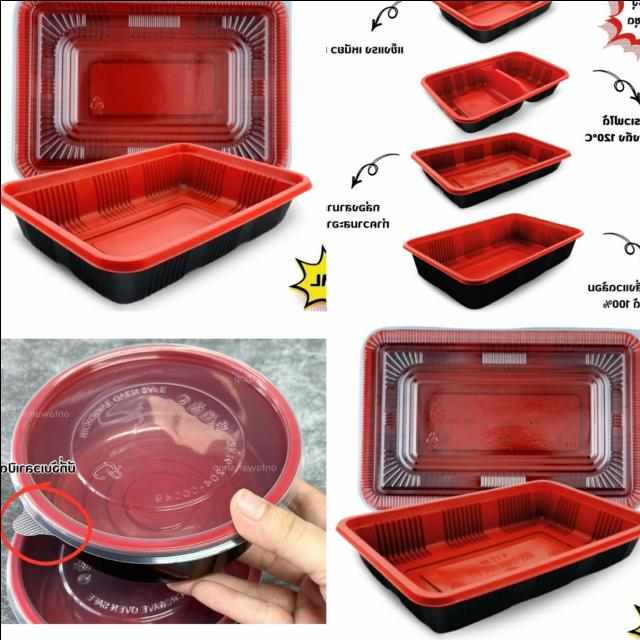plastik: (0, 334, 311, 571), (360, 328, 640, 507), (0, 142, 311, 302), (14, 0, 288, 174), (336, 479, 640, 632), (402, 212, 581, 308), (410, 131, 569, 207), (421, 50, 568, 130), (431, 0, 551, 41)
